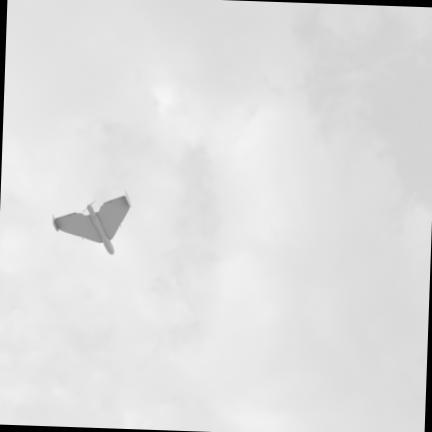Shahed: (53, 191, 131, 254)
